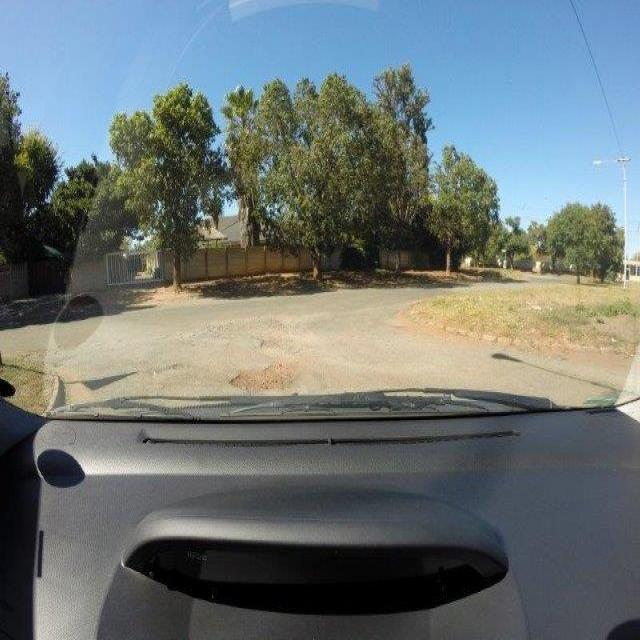lubang: (367, 313, 463, 344), (222, 363, 311, 393), (256, 336, 310, 363)
